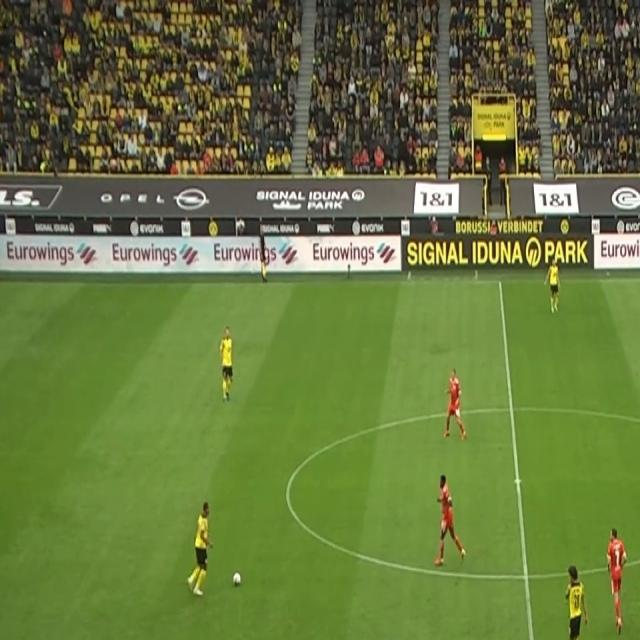ball: (231, 569, 242, 589)
